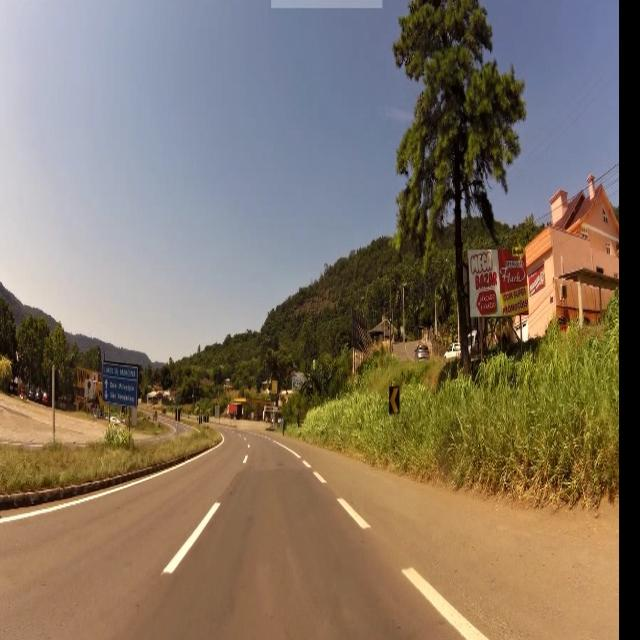Del: (390, 383, 399, 410)
LOC-6: (101, 362, 137, 403)
